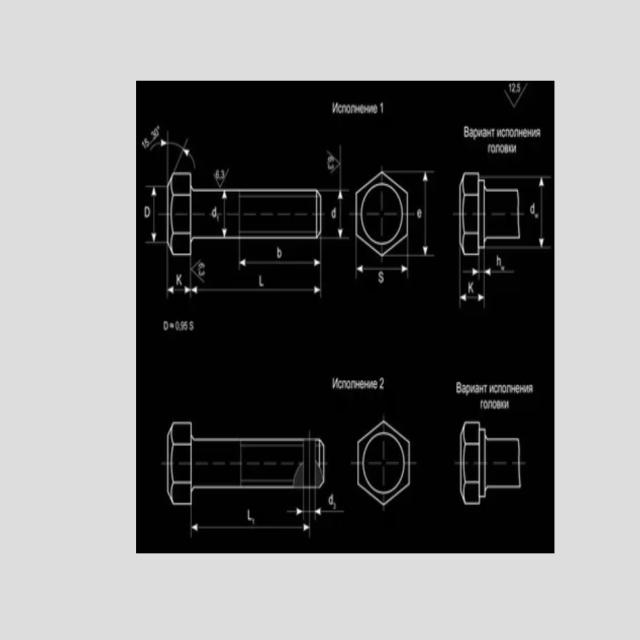marking_line: (160, 257, 325, 301), (188, 257, 324, 300), (190, 506, 312, 538), (237, 241, 323, 272), (409, 170, 435, 260), (522, 175, 552, 250), (151, 131, 197, 172), (458, 256, 487, 310), (322, 188, 350, 239), (355, 257, 409, 280), (164, 258, 193, 300), (145, 185, 165, 245), (314, 491, 346, 520), (483, 251, 517, 276), (287, 490, 306, 520), (463, 257, 481, 280), (222, 191, 228, 237)
numeric: (379, 377, 385, 391), (247, 509, 253, 522), (379, 101, 384, 114), (198, 268, 205, 276), (144, 137, 149, 148), (154, 127, 159, 138), (151, 131, 156, 141), (327, 163, 334, 170), (199, 262, 206, 269), (175, 320, 179, 331), (181, 321, 185, 332), (512, 83, 516, 94), (517, 83, 521, 94), (184, 321, 188, 331), (216, 169, 220, 178), (328, 156, 334, 162), (142, 141, 146, 150), (221, 169, 224, 179), (334, 502, 337, 509), (509, 84, 511, 92)
special_symbol: (503, 82, 528, 108), (213, 167, 230, 188), (192, 258, 205, 282), (327, 151, 339, 173), (157, 125, 160, 130)
